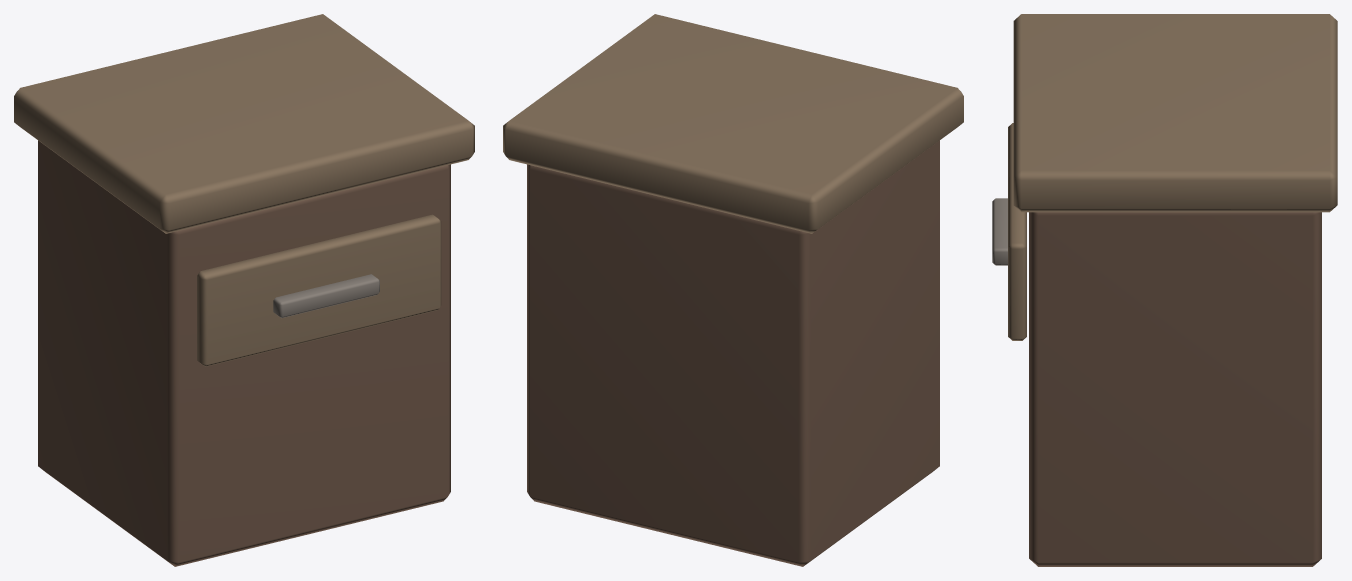
File: prop_nightstand_old_01.glb
The picture shows the model from 3 angles, left to right: view 1: azimuth 30°, elevation 25°; view 2: azimuth 150°, elevation 25°; view 3: azimuth 270°, elevation 25°; orthographic projection. The views are drawn at different scales.
Visible parts, largest first — view 1: nightstand_body.001, nightstand_top.001, drawer_front.001, drawer_handle.001; view 2: nightstand_body.001, nightstand_top.001; view 3: nightstand_body.001, nightstand_top.001, drawer_front.001, drawer_handle.001.
Boxes of the visible parts, x1=… form: nightstand_body.001: x1=38, y1=140, x2=450, y2=566; nightstand_top.001: x1=14, y1=14, x2=474, y2=233; drawer_front.001: x1=197, y1=214, x2=441, y2=366; drawer_handle.001: x1=273, y1=274, x2=379, y2=318; nightstand_body.001: x1=527, y1=140, x2=939, y2=566; nightstand_top.001: x1=503, y1=14, x2=963, y2=233; nightstand_body.001: x1=1029, y1=212, x2=1321, y2=566; nightstand_top.001: x1=1013, y1=14, x2=1337, y2=212; drawer_front.001: x1=1008, y1=123, x2=1026, y2=340; drawer_handle.001: x1=992, y1=198, x2=1007, y2=265.
Bounding box in the file's own units: 0.5 × 0.58 × 0.4475.
